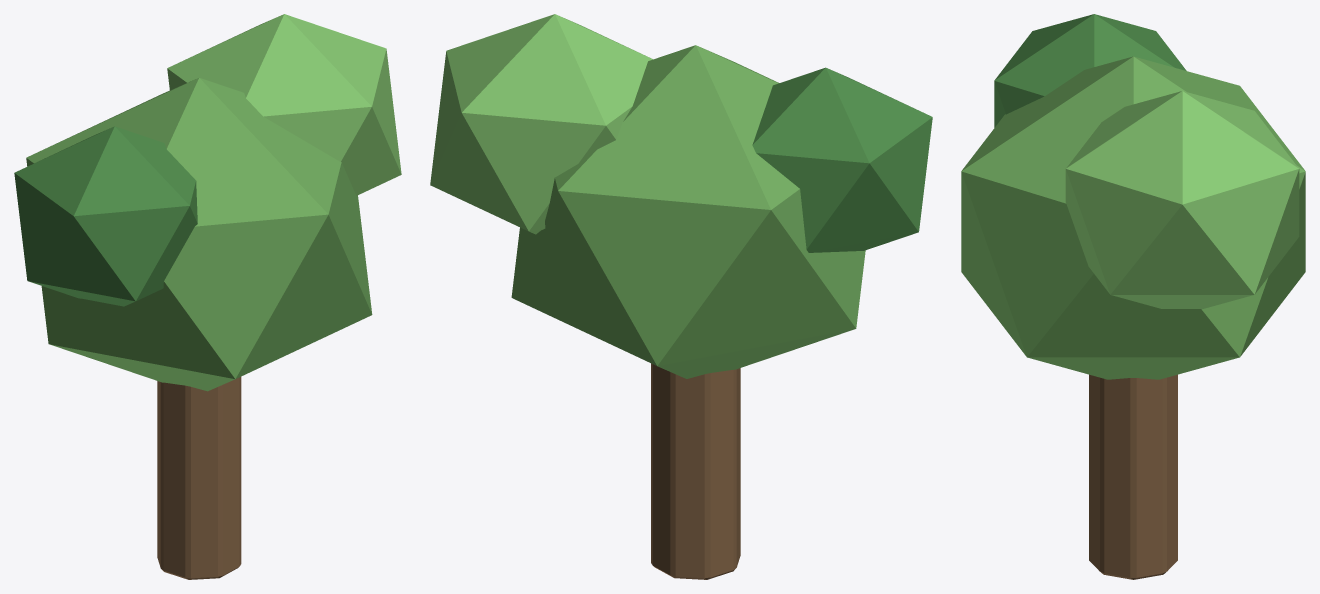
File: tree_round.glb
The picture shows the model from 3 angles, left to right: view 1: azimuth 30°, elevation 25°; view 2: azimuth 150°, elevation 25°; view 3: azimuth 270°, elevation 25°; orthographic projection. The views are drawn at different scales.
Visible parts, largest first — view 1: r_puff1, r_puff3, r_puff2, r_trunk; view 2: r_puff1, r_puff2, r_puff3, r_trunk; view 3: r_puff1, r_puff2, r_trunk, r_puff3.
Part boxes in pixels (<box>): r_puff1: <box>26,77,372,391</box>; r_puff3: <box>14,126,197,306</box>; r_puff2: <box>167,14,401,195</box>; r_trunk: <box>157,377,241,579</box>; r_puff1: <box>511,45,865,378</box>; r_puff2: <box>430,14,652,234</box>; r_puff3: <box>752,67,932,252</box>; r_trunk: <box>651,363,740,579</box>; r_puff1: <box>961,56,1305,379</box>; r_puff2: <box>1065,91,1299,309</box>; r_trunk: <box>1089,374,1177,579</box>; r_puff3: <box>994,14,1186,127</box>.
Size of the model in its own units: 1.48 by 1.78 by 1.05.
